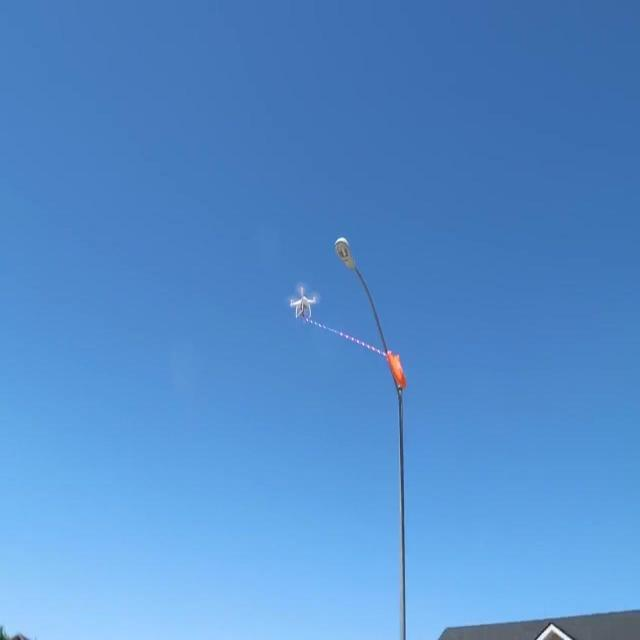UAV: (290, 286, 316, 324)
